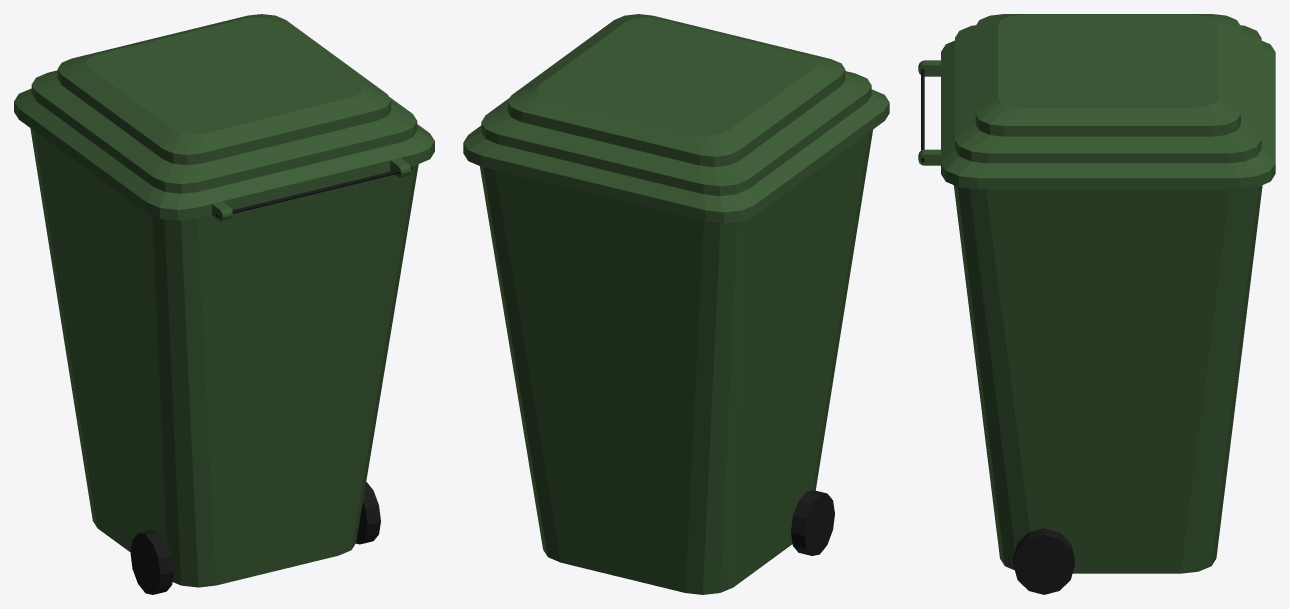
File: trashbin (1).fbx
3 renders of one model, left to right at view 1: azimuth 30°, elevation 25°; view 2: azimuth 150°, elevation 25°; view 3: azimuth 270°, elevation 25°, orthographic. The views are drawn at different scales.
Visible parts, largest first — view 1: Cube.019, Cylinder.003; view 2: Cube.019, Cylinder.003; view 3: Cube.019, Cylinder.003.
Part boxes in pixels (bbox=[...]): Cube.019: bbox=[14, 14, 434, 587]; Cylinder.003: bbox=[130, 482, 380, 594]; Cube.019: bbox=[463, 14, 889, 594]; Cylinder.003: bbox=[791, 490, 834, 555]; Cube.019: bbox=[918, 14, 1275, 573]; Cylinder.003: bbox=[1013, 528, 1074, 594].
Size of the model in its own units: 327 by 516 by 349.
